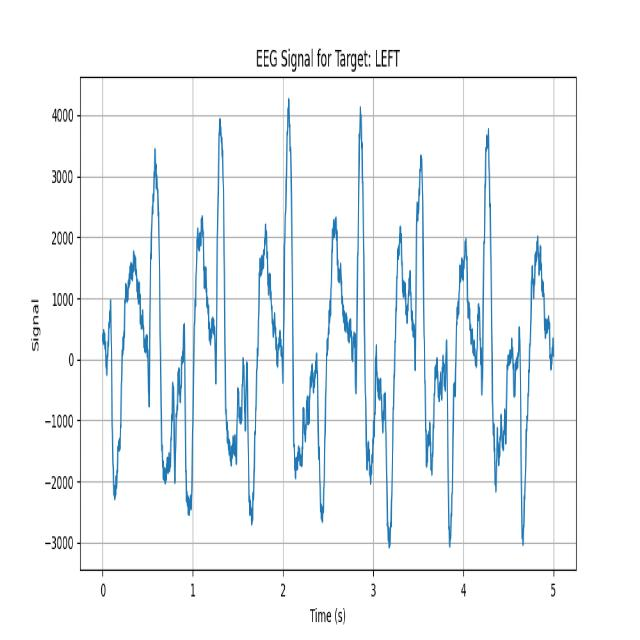LEFT: (327, 100, 401, 546), (184, 117, 263, 519), (401, 99, 465, 554), (465, 98, 529, 551), (264, 98, 327, 516), (120, 118, 184, 523)
